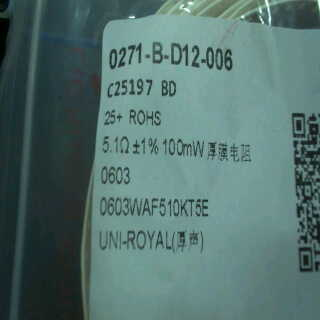5.1R: (101, 131, 131, 157)
